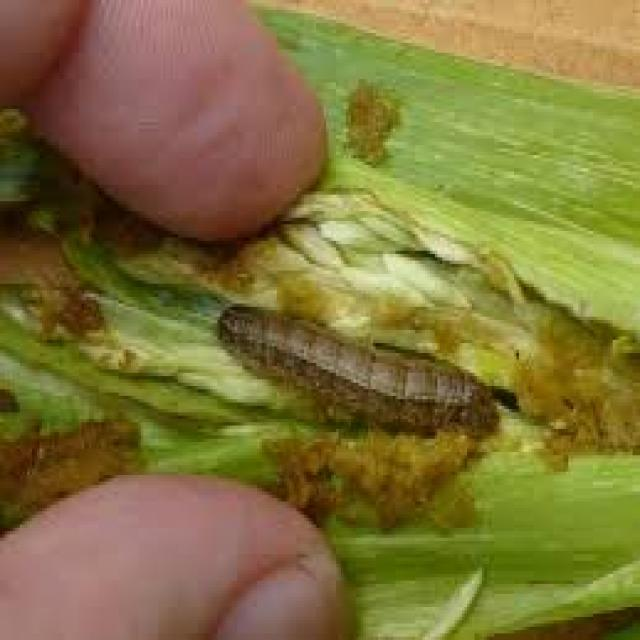Army Worm: (216, 299, 506, 458)
